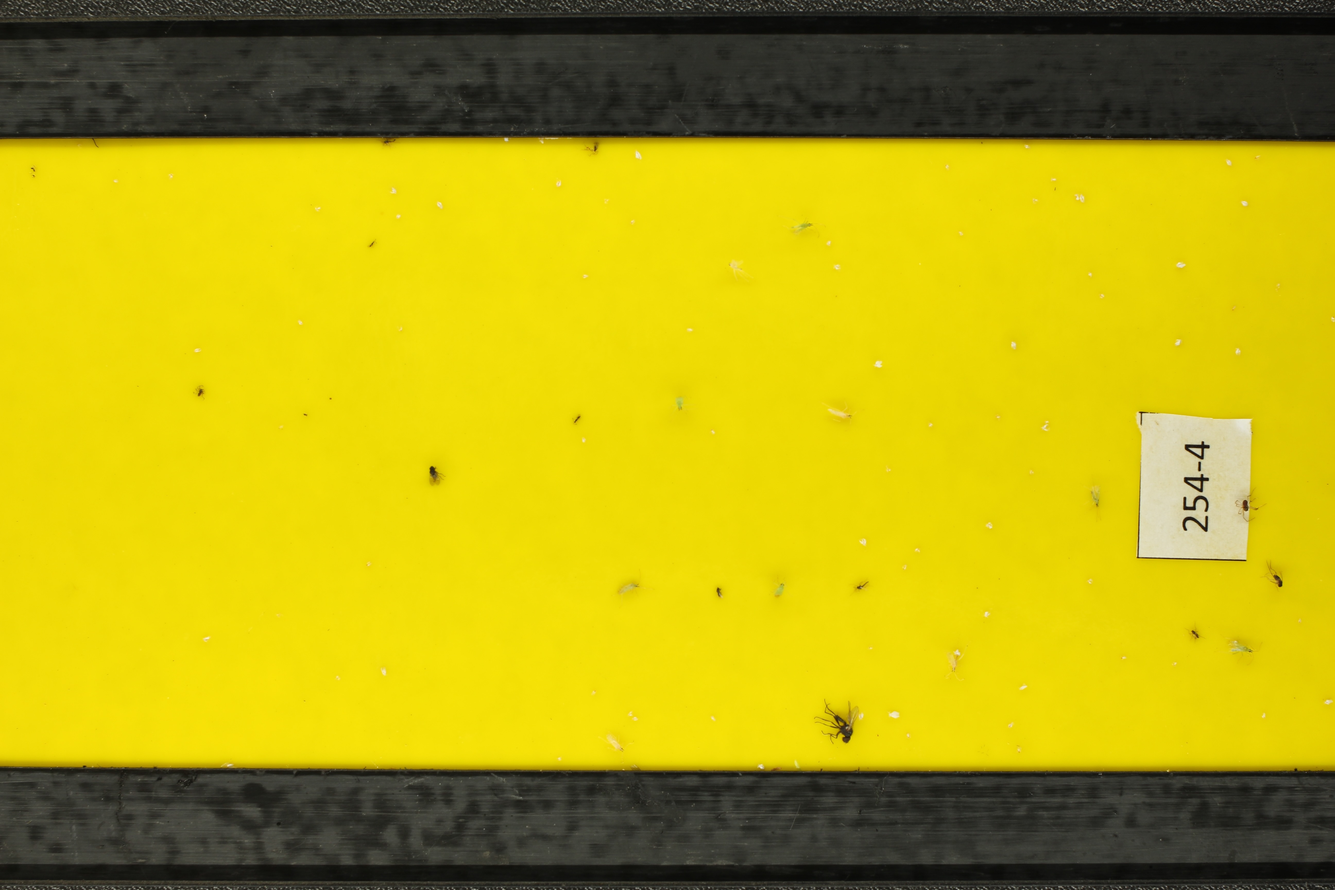MR: (609, 570, 656, 601), (1225, 635, 1264, 666), (783, 212, 826, 239), (666, 387, 697, 421), (599, 730, 632, 757), (1085, 483, 1106, 523), (768, 574, 793, 602), (946, 654, 966, 681)
WF: (630, 148, 653, 166), (1173, 258, 1193, 276), (1170, 333, 1186, 352), (870, 356, 888, 371), (376, 664, 394, 679), (1007, 335, 1021, 354), (1236, 197, 1254, 211), (981, 607, 995, 624), (386, 184, 402, 198), (1231, 341, 1245, 357), (190, 344, 207, 356), (830, 259, 845, 272), (1220, 158, 1236, 170), (550, 177, 564, 190), (1038, 422, 1051, 436), (433, 196, 445, 211), (984, 519, 996, 534), (201, 633, 214, 645), (580, 269, 591, 282), (1017, 681, 1030, 692), (890, 709, 901, 722), (708, 425, 718, 439), (1084, 270, 1098, 280), (1119, 654, 1133, 664), (165, 170, 177, 181), (1322, 696, 1334, 707), (362, 559, 375, 569), (1020, 142, 1034, 151), (627, 216, 637, 228), (1086, 575, 1096, 587), (898, 562, 910, 572), (1080, 193, 1090, 204), (1097, 292, 1107, 303), (925, 420, 935, 431), (579, 437, 591, 446), (858, 536, 868, 546), (940, 162, 951, 171), (954, 229, 965, 238), (1027, 467, 1037, 476), (312, 205, 323, 213), (913, 546, 924, 554), (685, 325, 694, 334), (1030, 198, 1040, 206), (1006, 720, 1016, 728), (993, 412, 1003, 420), (603, 197, 612, 205), (1048, 176, 1060, 182), (1173, 660, 1181, 669), (1296, 617, 1304, 626), (395, 213, 403, 221), (296, 320, 305, 327), (399, 325, 406, 334), (825, 240, 834, 247), (555, 755, 565, 761), (1262, 710, 1268, 720), (709, 714, 716, 722), (112, 178, 121, 184), (867, 645, 876, 651), (859, 713, 866, 720), (1016, 747, 1023, 754), (1074, 192, 1079, 201), (632, 717, 641, 722), (591, 689, 598, 695), (627, 710, 633, 717), (954, 650, 961, 655), (905, 732, 910, 739), (757, 763, 765, 767)
